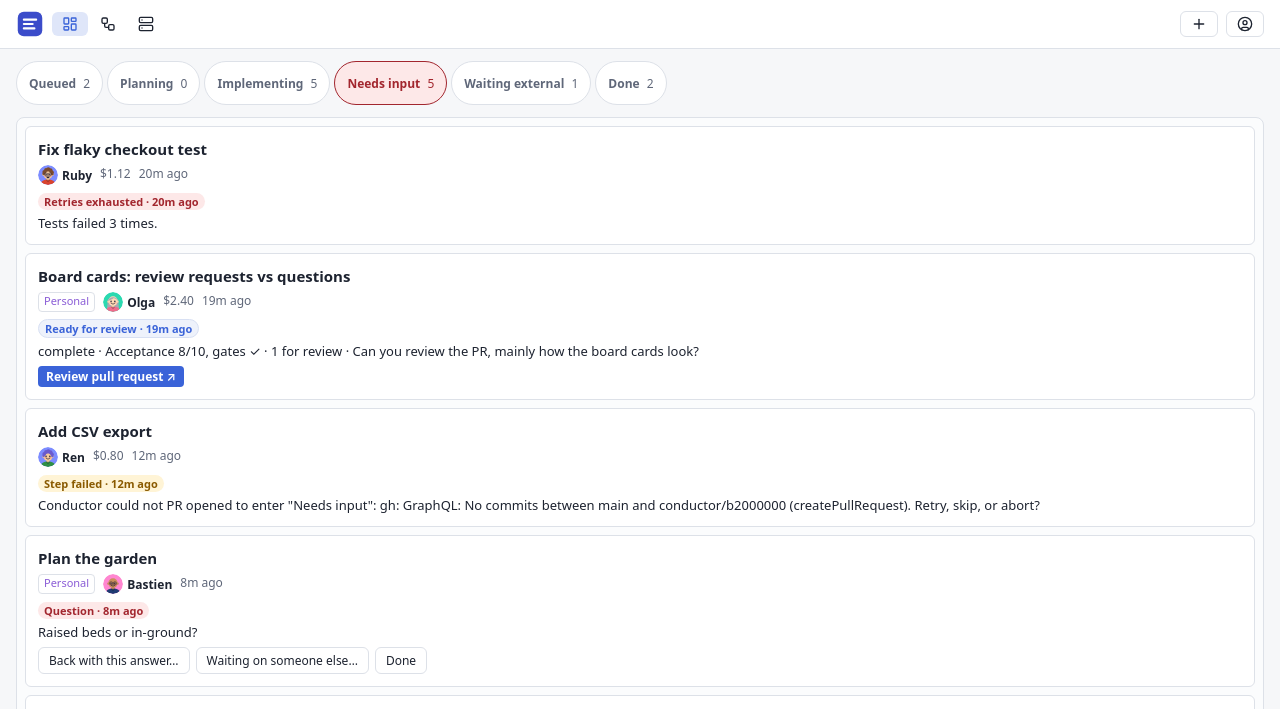
Scenario: phone top bar (11-web-ui §Top bar) › at 375 the bar is compact, and Add a machine and Help are in the account menu
Expected: the heading named "Conductor" is shown, [16,10,44,38]
Expected: the link named "Board" is shown, [52,12,88,36]
Click the button named "local" at [1245, 24], box [1226,11,1264,37]
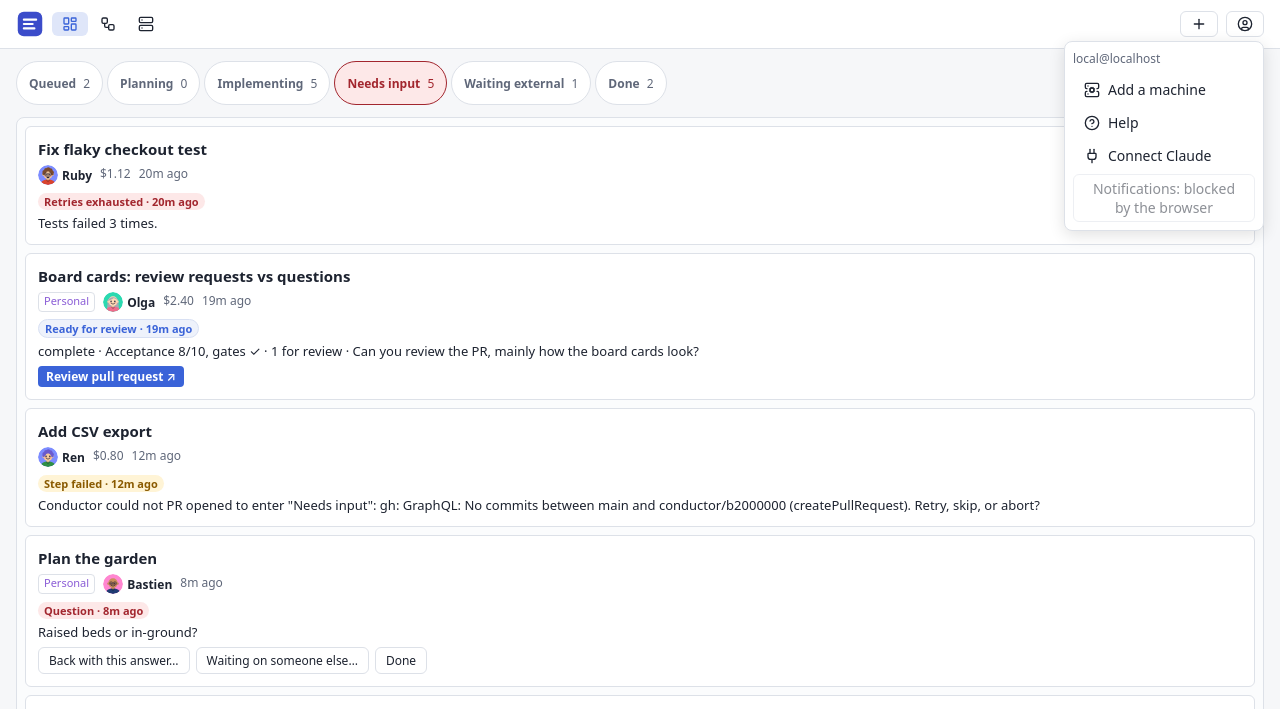
Result: the menu item "Help" is shown at [1084,113,1138,132]
Result: the menu item "Connect Claude" is shown at [1084,146,1211,165]
